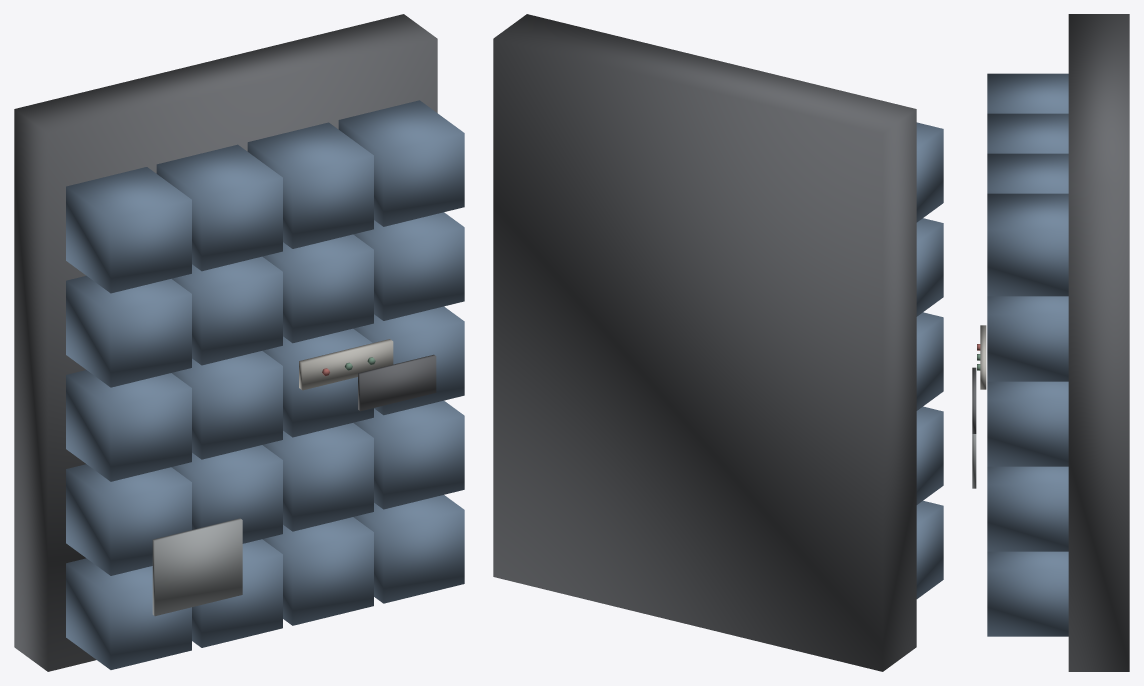
The model's file is parts_bin_rack__weathered.glb.
3 renders of one model, left to right at view 1: azimuth 30°, elevation 25°; view 2: azimuth 150°, elevation 25°; view 3: azimuth 270°, elevation 25°, orthographic. The views are drawn at different scales.
Parts seen in each view (by area): view 1: world; view 2: world; view 3: world.
Boxes of the visible parts, x1,y1,x2,y2 form: world: (14, 14, 464, 671); world: (493, 14, 943, 671); world: (972, 14, 1129, 671).
Size of the model in its own units: 1.2 by 1.58 by 0.465.
